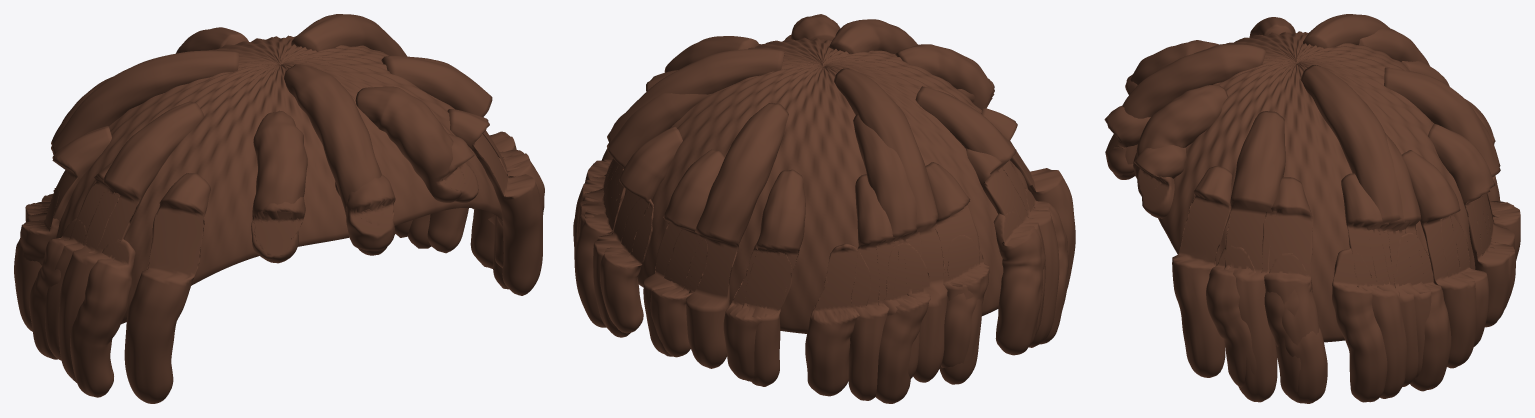
The model's file is Masculine-locs-headband260-hair.glb.
The picture shows the model from 3 angles, left to right: view 1: azimuth 30°, elevation 25°; view 2: azimuth 150°, elevation 25°; view 3: azimuth 270°, elevation 25°; orthographic projection. The views are drawn at different scales.
Parts seen in each view (by area): view 1: 226 hair / Hair260 / mature compact locs; view 2: 226 hair / Hair260 / mature compact locs; view 3: 226 hair / Hair260 / mature compact locs.
Boxes of the visible parts, <box> form: 226 hair / Hair260 / mature compact locs: <box>14,14,544,403</box>; 226 hair / Hair260 / mature compact locs: <box>573,14,1075,403</box>; 226 hair / Hair260 / mature compact locs: <box>1104,14,1520,403</box>.
Size of the model in its own units: 1.14 by 0.6578 by 0.9235.
